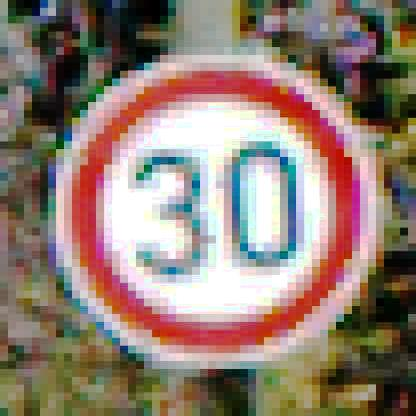Speed Limit -30-: (54, 51, 382, 368)
